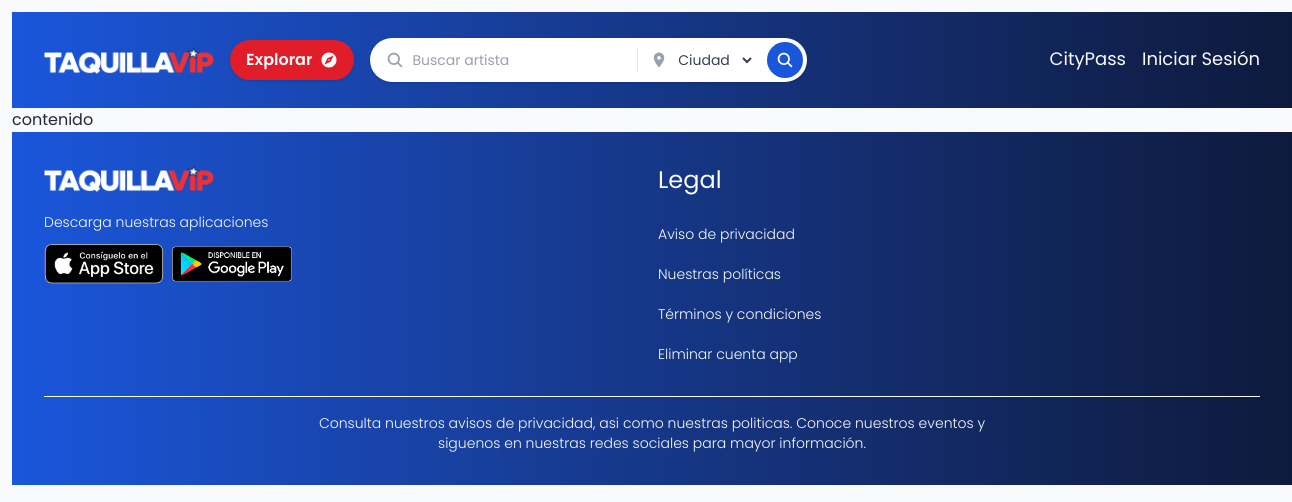
Test: SiteLayout — disponibilidad de CityPass por ciudad › deshabilita el botón cuando la ciudad elegida NO tiene CityPass configurado
Check: the button named "Ir al CityPass" is enabled, box [767,42,803,78]
Select "Reynosa" in the dropdown named "Selecciona una ciudad". click: (715, 60)
box: [674,49,755,71]
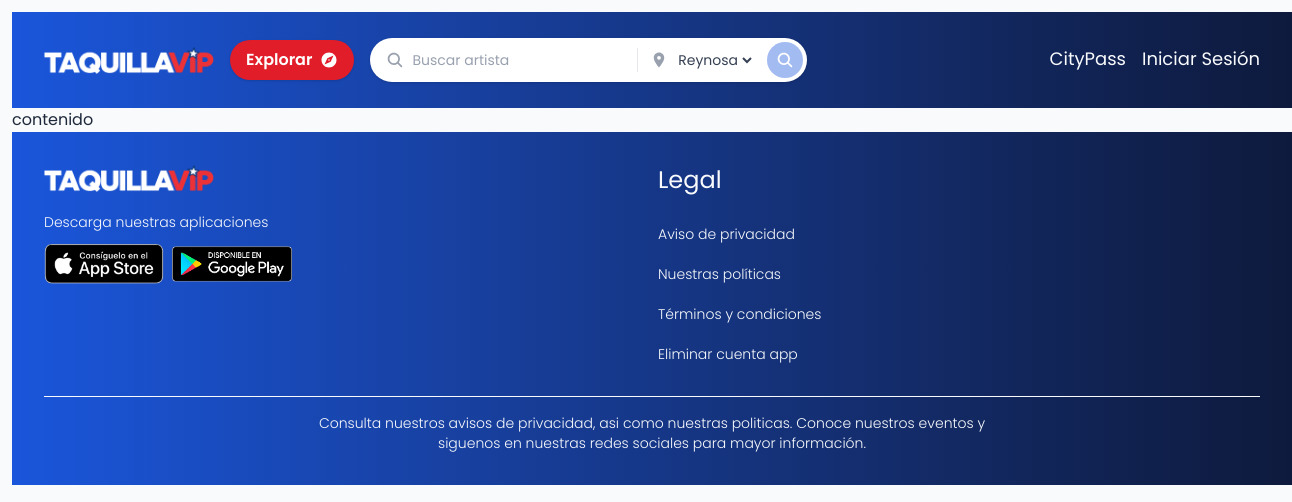
Check: the button named "Ir al CityPass" is disabled, box [767,42,803,78]
